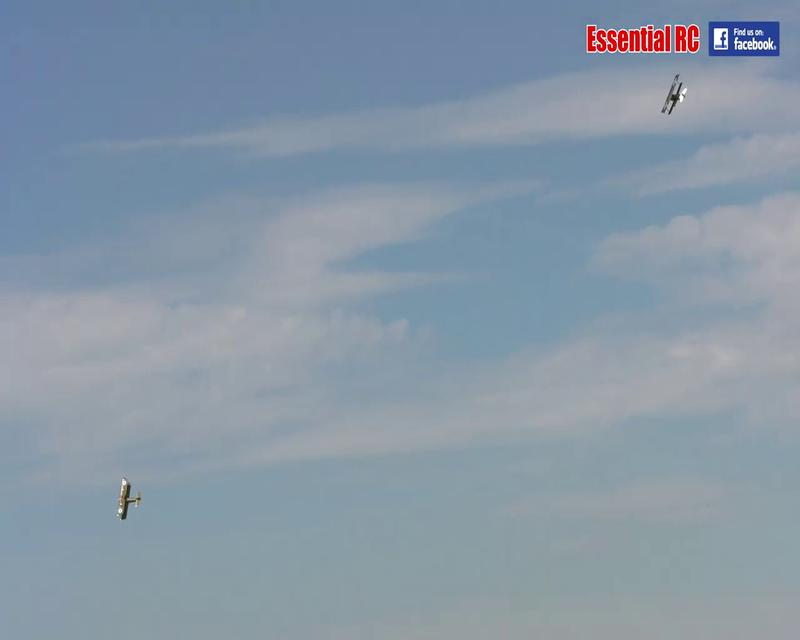UAV: (658, 72, 690, 118), (114, 477, 142, 524)
